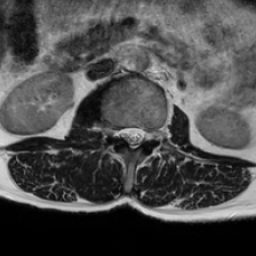CCS_normal: (128, 118, 137, 155)
LFS_stenosis: (144, 120, 155, 147)
LLS_normal: (137, 120, 144, 150)
RFS_normal: (109, 120, 118, 143)
RLS_normal: (118, 120, 128, 144)
